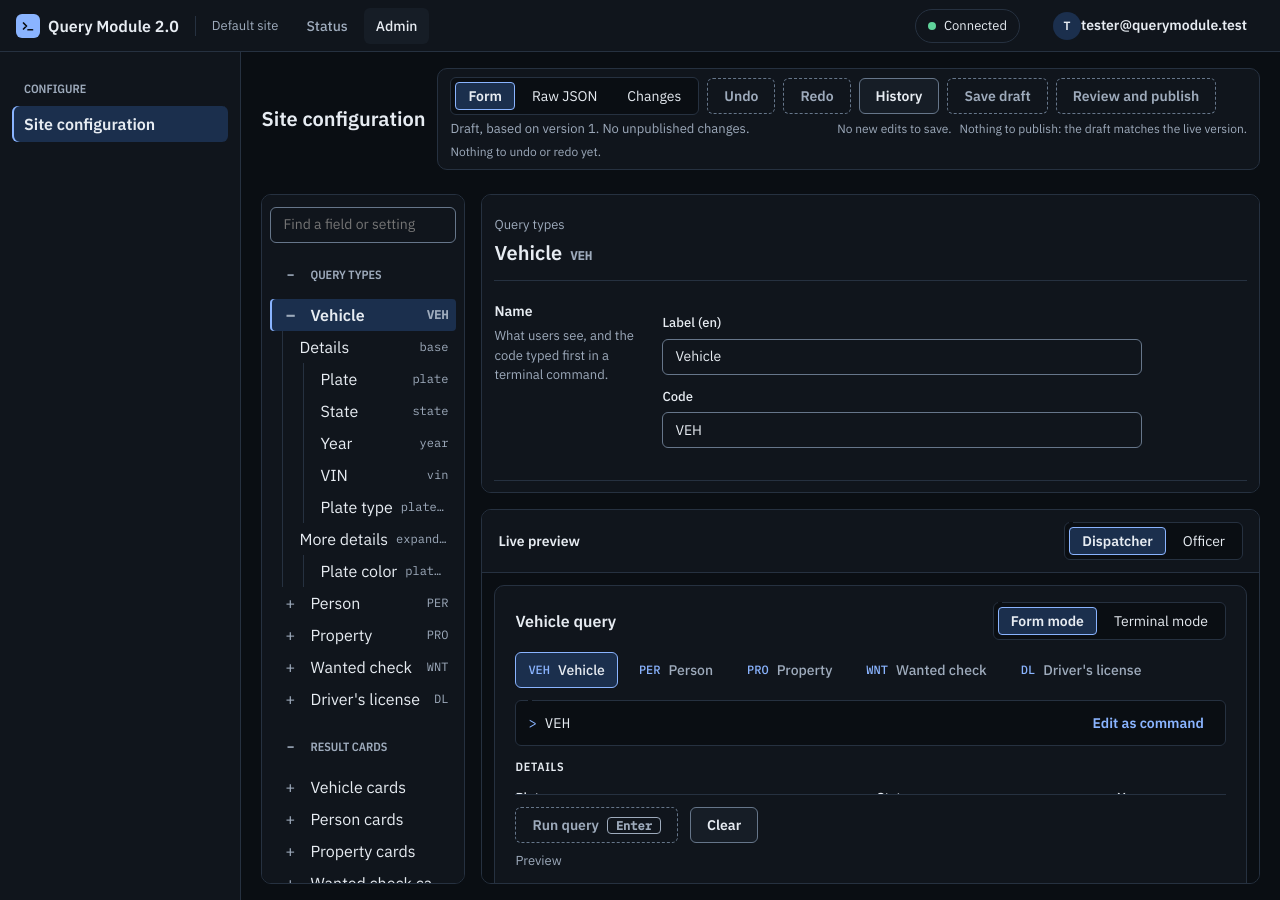
Test: the card preview › typed plate ZZ-0001 picks the STOLEN scenario, ABC123 the no-record one
The image size is (1280, 900).
Click the list item "Vehicle cards": (342, 786) top-left (278, 774), bottom-right (406, 798)
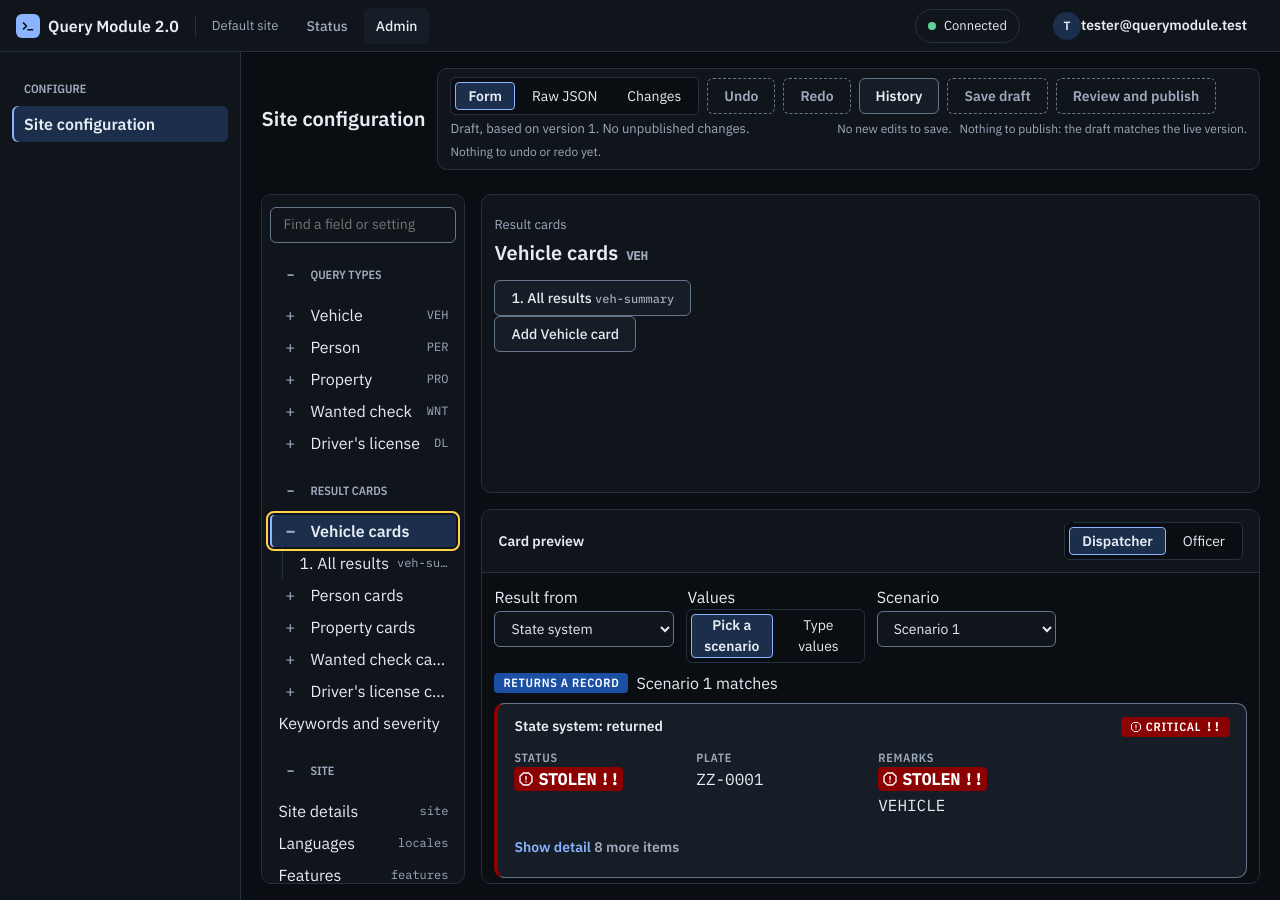
Click the list item "1. All results veh-summary" below "DL": (374, 562) top-left (291, 546), bottom-right (456, 578)
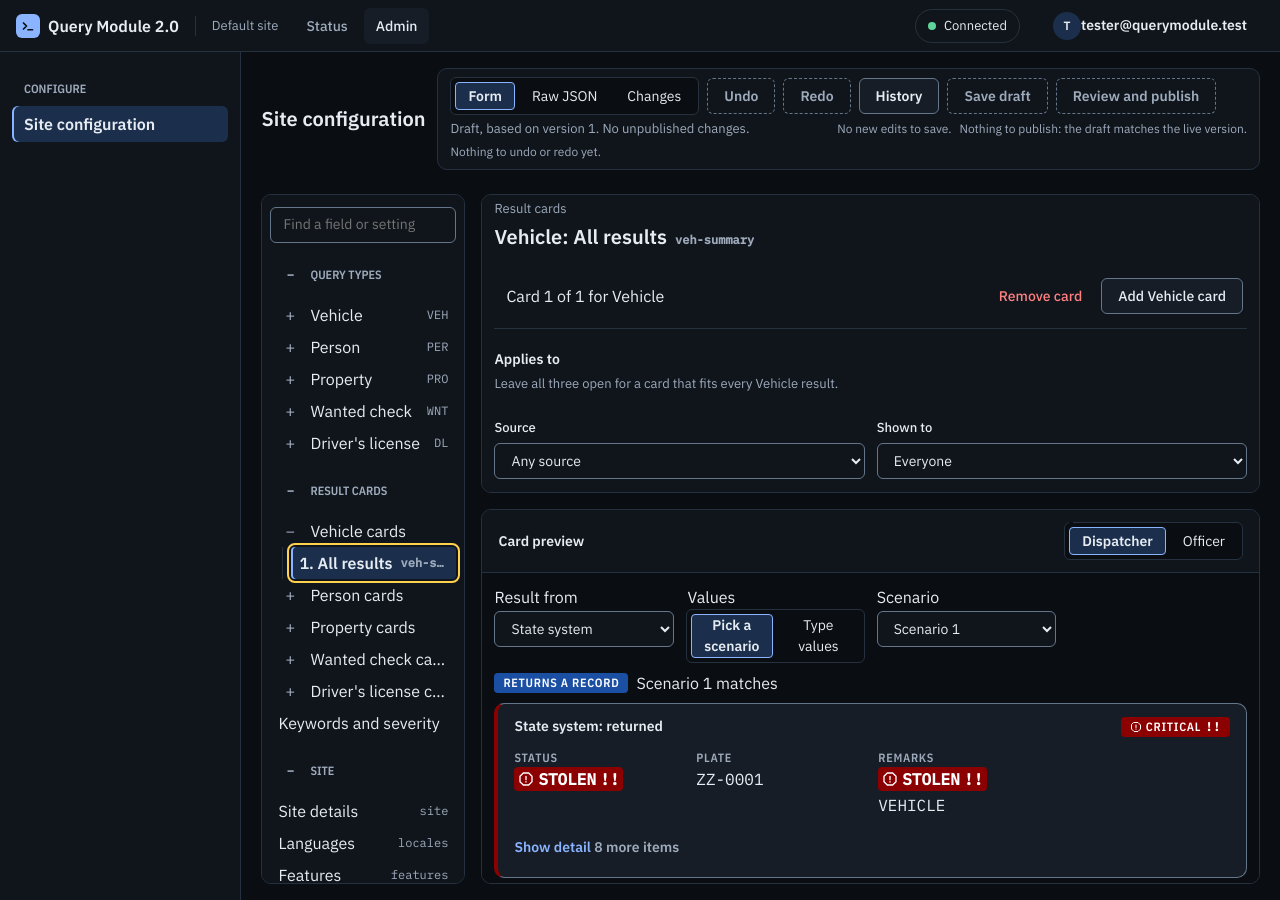
Expected: the element "Card preview" is shown, top-left (481, 509), bottom-right (1260, 884)
Click the radio button labelled "Type values": (818, 636) top-left (798, 616), bottom-right (839, 655)
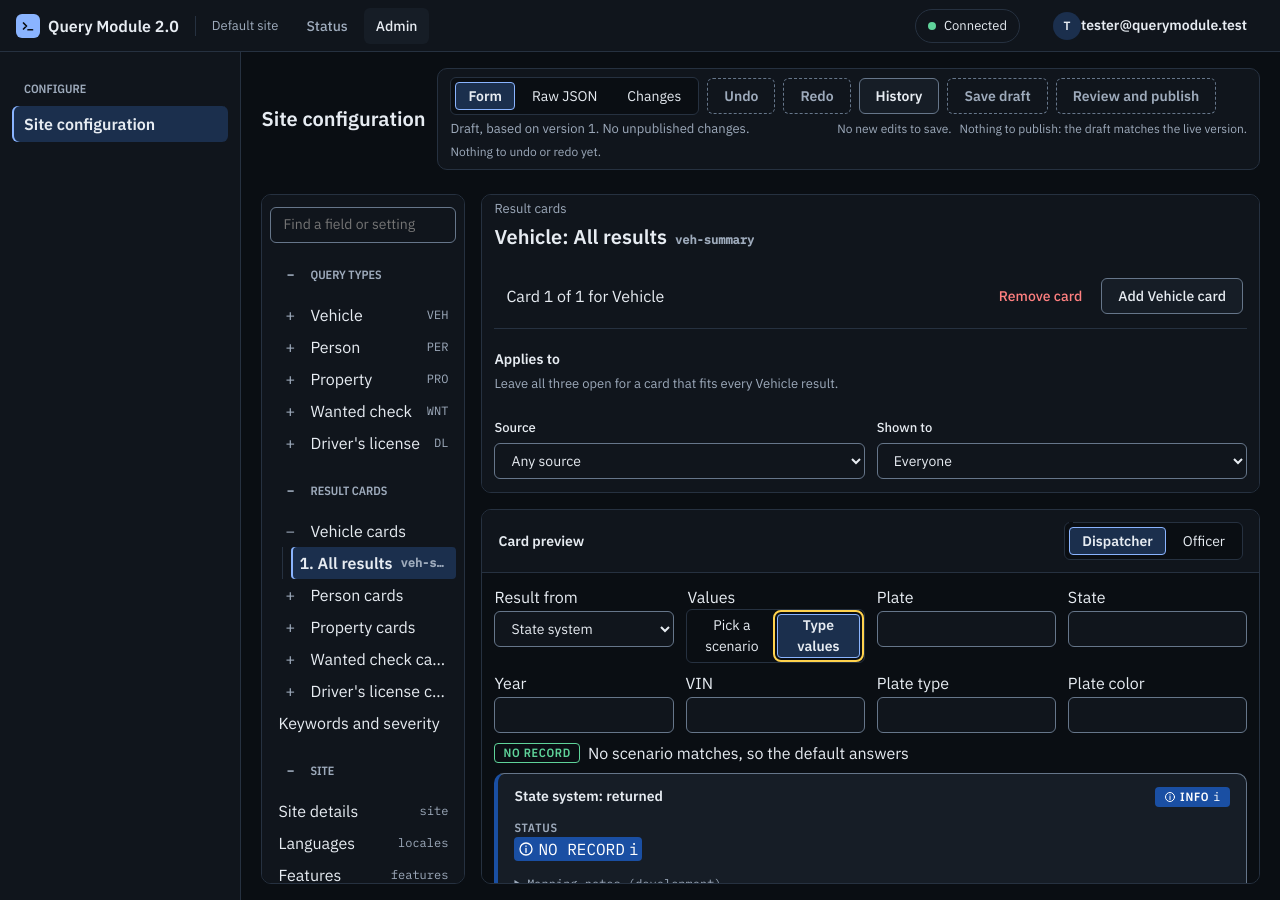
In the field labelled "Plate": (966, 629) top-left (877, 611), bottom-right (1056, 647), type "ZZ-0001"
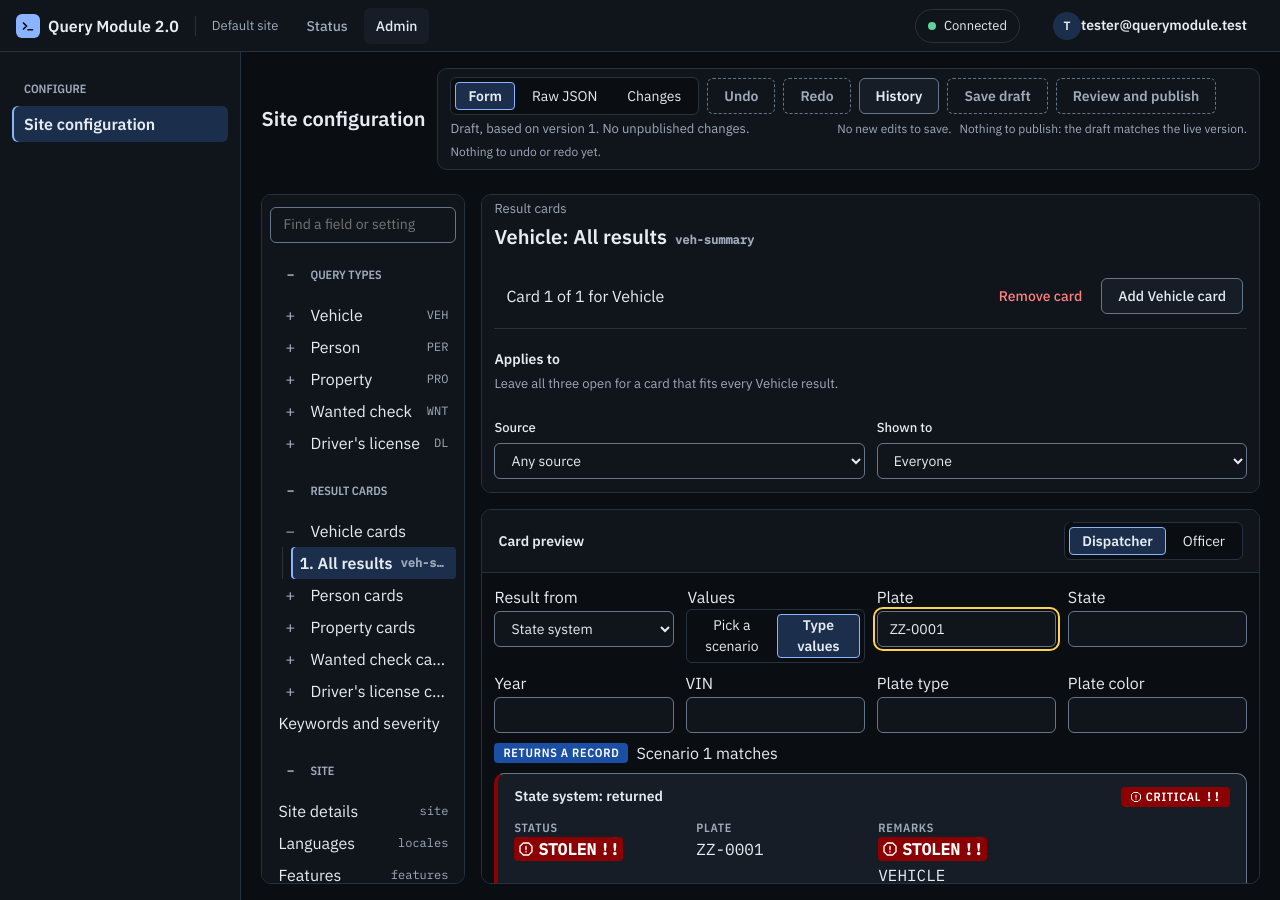
Expected: the text "Scenario 1 matches" is shown, top-left (636, 741), bottom-right (778, 765)
Expected: the 1st text "STOLEN" is shown, top-left (538, 839), bottom-right (596, 859)
Click the radio button labelled "Type values": (818, 636) top-left (777, 614), bottom-right (860, 658)
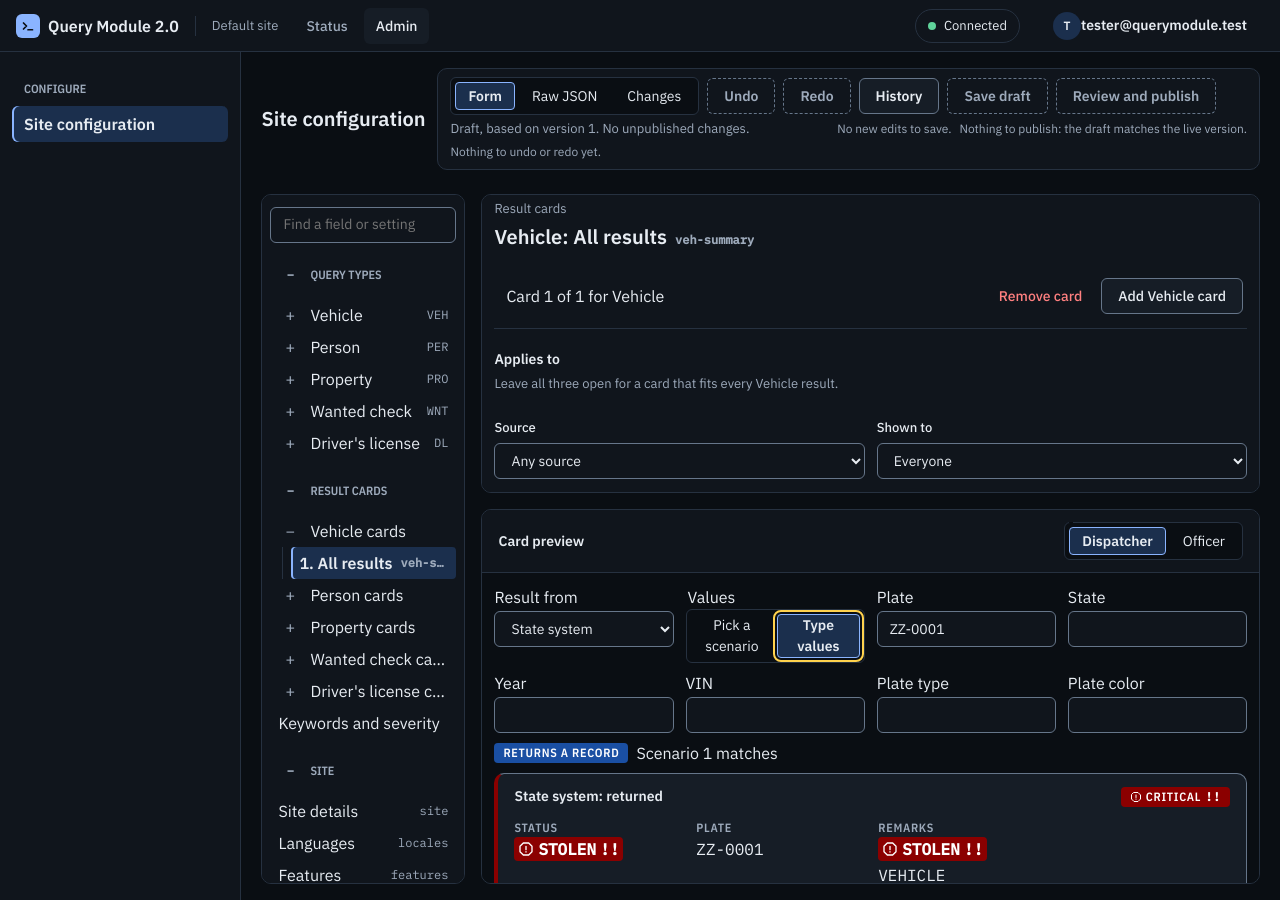
Replace the text in the field labelled "Plate" with "ABC123": (966, 629) top-left (877, 611), bottom-right (1056, 647)
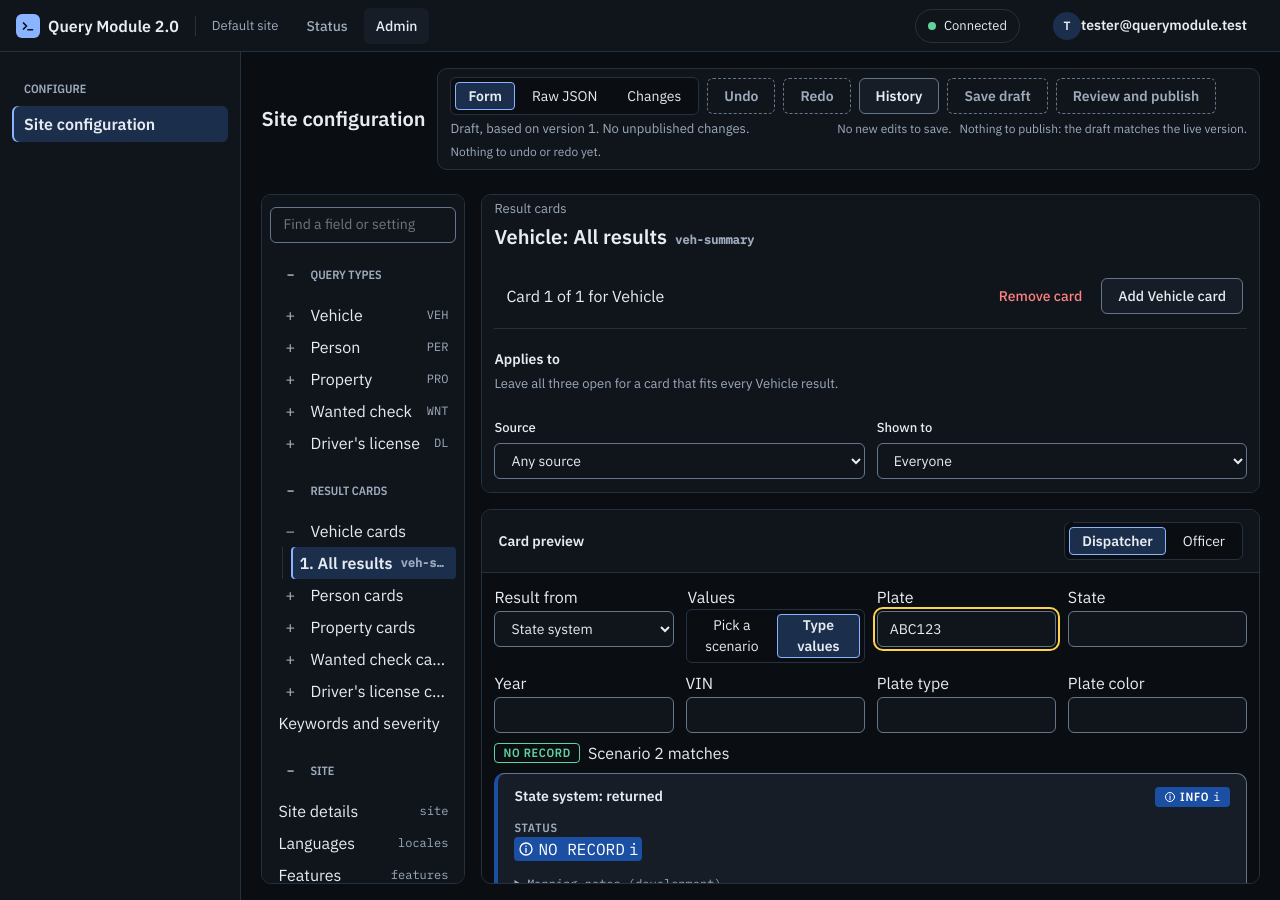
Expected: the text "NO RECORD" is shown, top-left (538, 839), bottom-right (625, 859)
Expected: the text "Scenario 2 matches" is shown, top-left (588, 741), bottom-right (729, 765)
